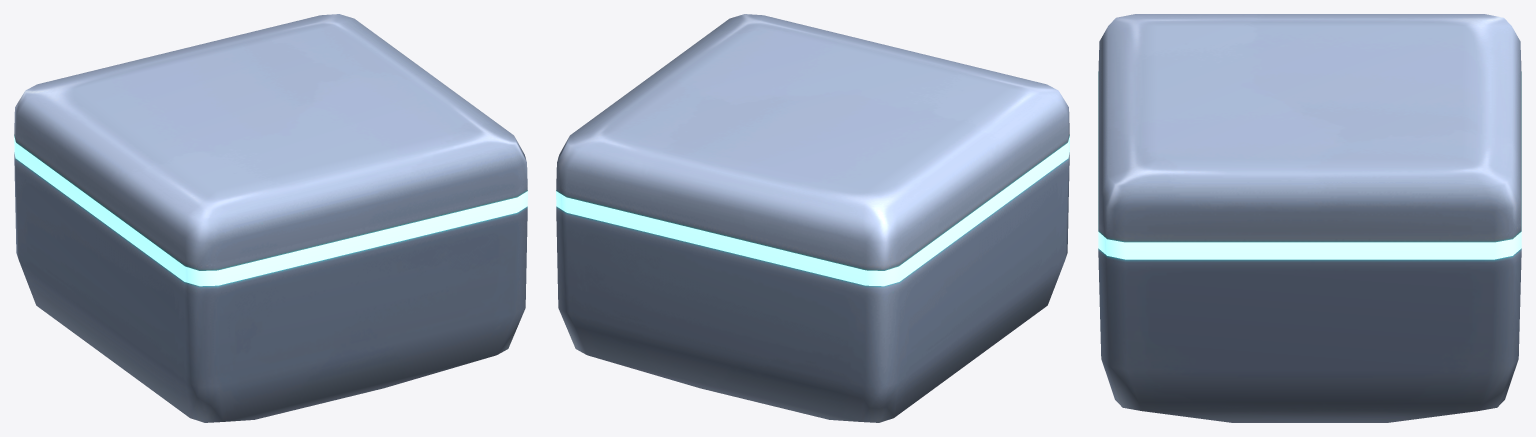
The model's file is obj_stool01.gltf.
3 renders of one model, left to right at view 1: azimuth 30°, elevation 25°; view 2: azimuth 150°, elevation 25°; view 3: azimuth 270°, elevation 25°, orthographic. The views are drawn at different scales.
Visible parts, largest first — view 1: obj_stool01; view 2: obj_stool01; view 3: obj_stool01.
Boxes of the visible parts, x1,y1,x2,y2 form: obj_stool01: (14,14,527,422); obj_stool01: (556,14,1069,422); obj_stool01: (1098,14,1521,422).
Size of what is drawn, in the model's own units: 0.6091 by 0.4413 by 0.5969.
Materials: 2 (1 with a texture image).
